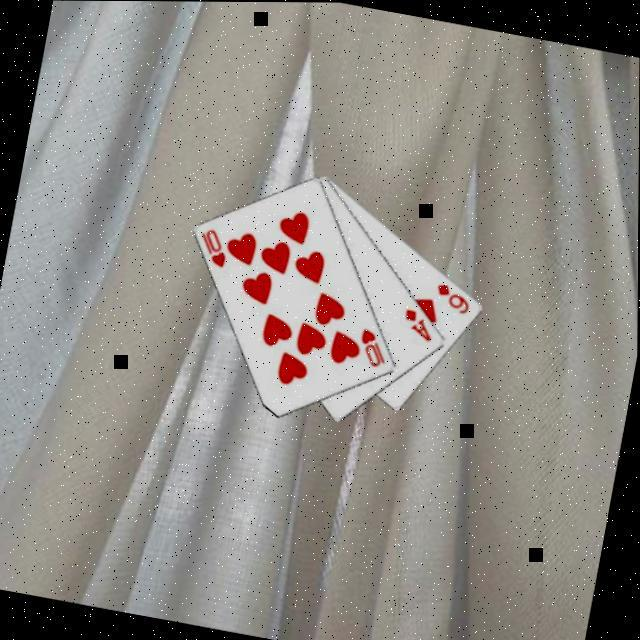10H: (191, 222, 232, 269), (352, 321, 392, 368)
6D: (429, 276, 474, 314)
AD: (397, 301, 438, 341)
